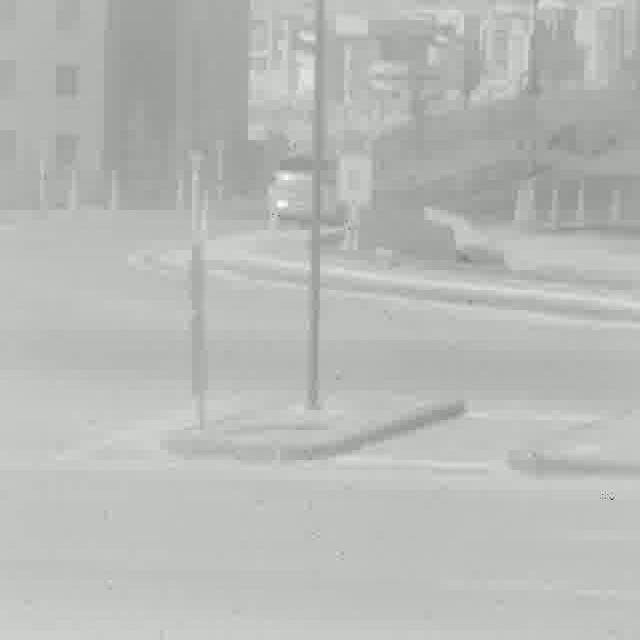Car: (262, 151, 345, 229)
